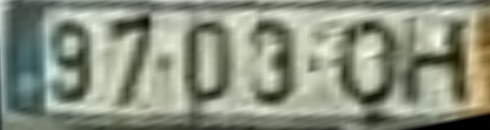0: (180, 18, 238, 107)
3: (247, 16, 302, 110)
7: (106, 14, 160, 110)
9: (46, 16, 97, 108)
H: (400, 14, 474, 108)
O: (335, 16, 403, 109)
